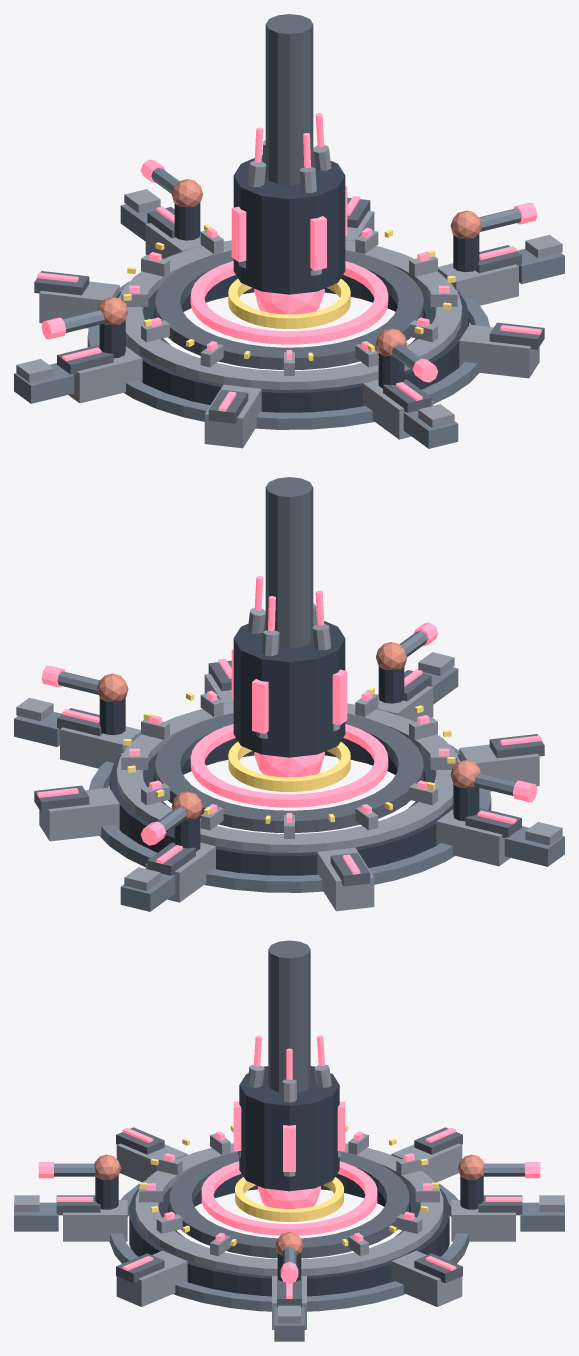
File: relay_1_mars.glb
3 views of the same model, one above another, from view 1: azimuth 30°, elevation 25°; view 2: azimuth 150°, elevation 25°; view 3: azimuth 270°, elevation 25° (orthographic). The views are drawn at different scales.
Parts seen in each view (by area): view 1: RLY_1, RLY_2, RLY_0, RLY_3, RLY_4, RLY_5, RLY_6; view 2: RLY_1, RLY_2, RLY_0, RLY_3, RLY_4, RLY_5, RLY_6; view 3: RLY_1, RLY_0, RLY_2, RLY_3, RLY_4, RLY_5, RLY_6.
Part boxes in pixels (x1,y1,x2,y2): RLY_1: [16, 140, 562, 448]; RLY_2: [34, 14, 544, 423]; RLY_0: [99, 155, 479, 412]; RLY_3: [37, 113, 541, 411]; RLY_4: [14, 168, 564, 448]; RLY_5: [123, 224, 455, 360]; RLY_6: [98, 179, 481, 356]; RLY_1: [16, 603, 562, 911]; RLY_2: [34, 477, 544, 886]; RLY_0: [99, 619, 479, 875]; RLY_3: [37, 576, 541, 874]; RLY_4: [14, 631, 564, 911]; RLY_5: [123, 687, 455, 823]; RLY_6: [97, 642, 480, 819]; RLY_1: [14, 1064, 564, 1329]; RLY_0: [95, 1066, 483, 1296]; RLY_2: [56, 940, 522, 1307]; RLY_3: [38, 1035, 540, 1298]; RLY_4: [14, 1163, 564, 1341]; RLY_5: [140, 1125, 438, 1246]; RLY_6: [94, 1154, 484, 1255].
Size of the model in its own units: 9.36 by 5.43 by 9.36.
